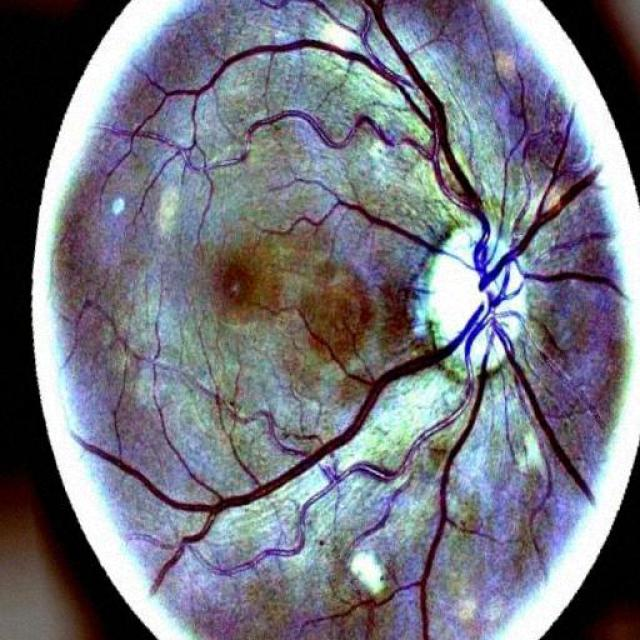Macula: (204, 256, 267, 314)
Nerves: (130, 0, 598, 291), (80, 292, 506, 592), (260, 400, 466, 558), (400, 358, 488, 639), (506, 340, 592, 501), (221, 109, 394, 165), (290, 0, 368, 49), (520, 271, 622, 295)
Optic Disk: (428, 234, 524, 375)
